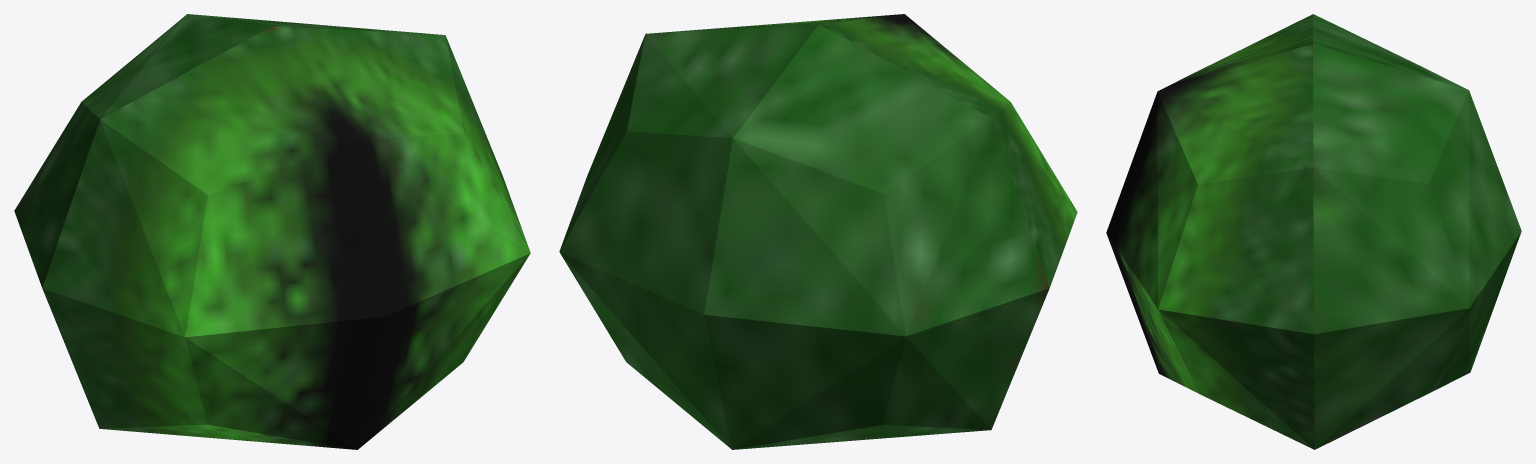
File: beholdereye.obj
3 views of the same model, side by side, from view 1: azimuth 30°, elevation 25°; view 2: azimuth 150°, elevation 25°; view 3: azimuth 270°, elevation 25° (orthographic). The views are drawn at different scales.
Visible parts, largest first — view 1: beholdereye; view 2: beholdereye; view 3: beholdereye.
Part boxes in pixels (x1,y1,x2,y2): beholdereye: [14, 14, 530, 449]; beholdereye: [559, 14, 1077, 449]; beholdereye: [1106, 14, 1521, 449].
Size of the model in its own units: 0.4572 by 0.3921 by 0.3921.
